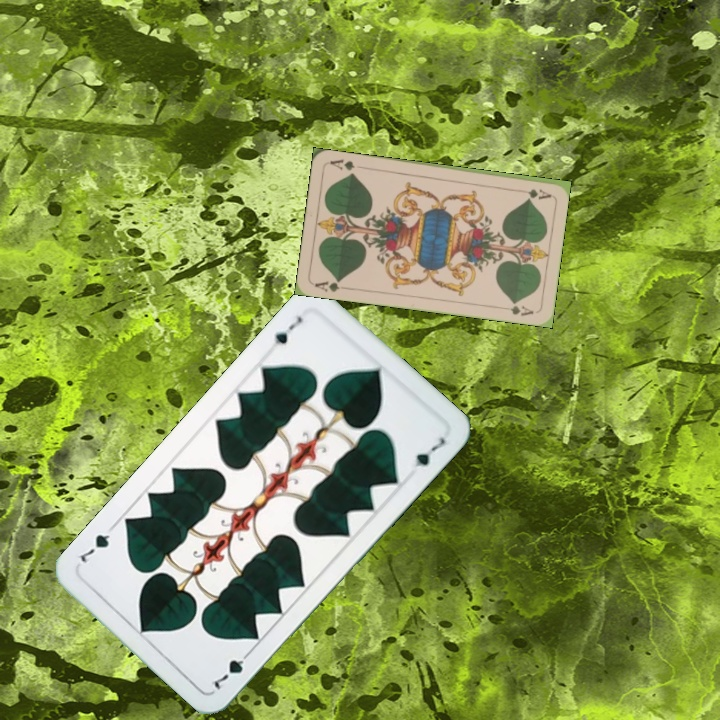G7: (209, 645, 255, 693), (270, 311, 305, 347)
GA: (311, 275, 343, 294), (524, 185, 553, 201)
